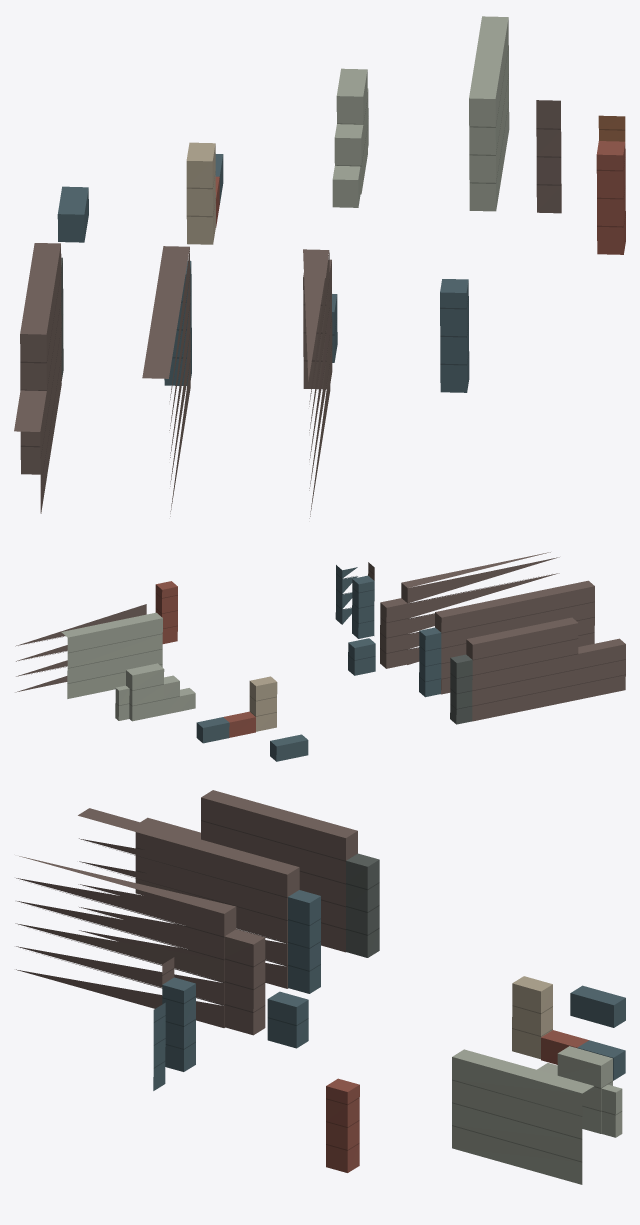
Rendered from terminal-2---138_-20.glb.
3 views of the same model, one above another, from view 1: azimuth 30°, elevation 25°; view 2: azimuth 150°, elevation 25°; view 3: azimuth 270°, elevation 25° (orthographic). The views are drawn at different scales.
Visible parts, largest first — view 1: measured-industrial; view 2: measured-industrial; view 3: measured-industrial.
Part boxes in pixels (x1,y1,x2,y2): measured-industrial: [14, 16, 625, 518]; measured-industrial: [15, 552, 625, 761]; measured-industrial: [15, 790, 625, 1184].
Bounding box in the file's own units: 88.98 × 14.59 × 70.12.
